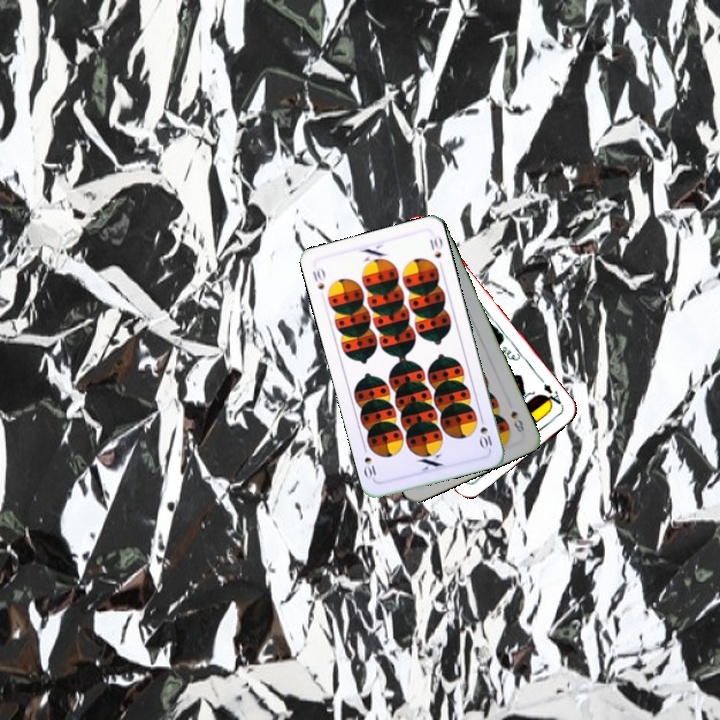EA: (538, 379, 565, 409)
S10: (476, 412, 495, 452), (308, 264, 328, 292)
S8: (507, 406, 527, 435)
